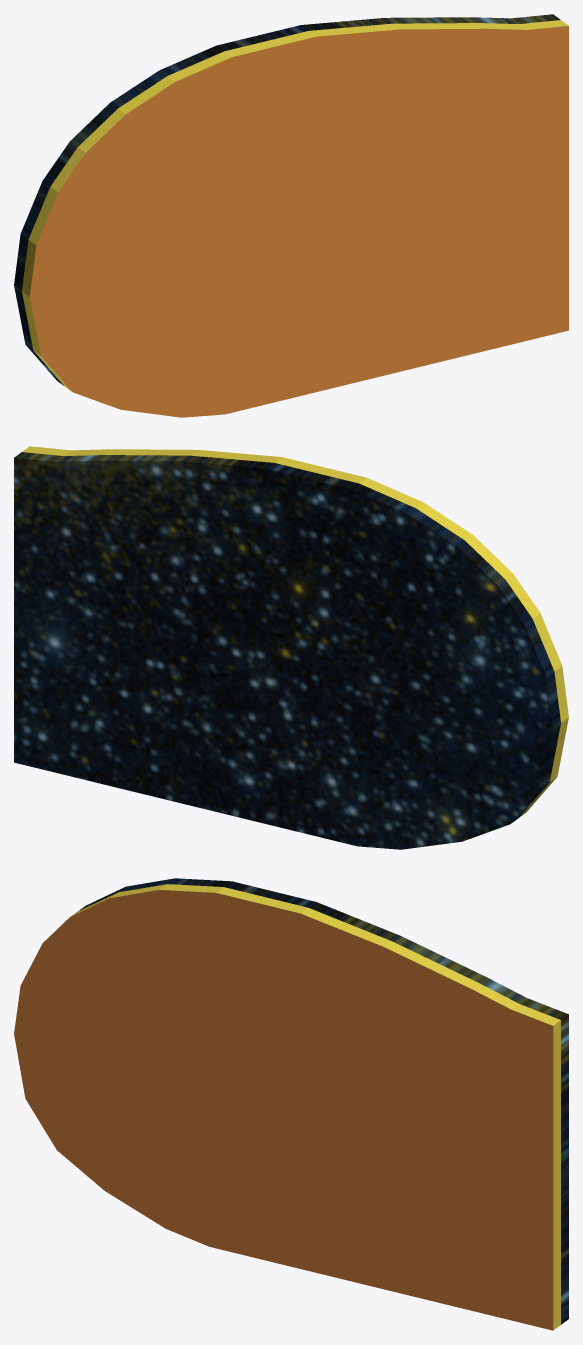
Rendered from Expl-Manufacturing Wall.fbx.
The picture shows the model from 3 angles, top to bottom: view 1: azimuth 30°, elevation 25°; view 2: azimuth 150°, elevation 25°; view 3: azimuth 330°, elevation 25°; orthographic projection.
Parts seen in each view (by area): view 1: Interior Walls.002; view 2: Interior Walls.002; view 3: Interior Walls.002.
Part boxes in pixels (x1,y1,x2,y2): Interior Walls.002: (14,14,568,417); Interior Walls.002: (14,446,568,849); Interior Walls.002: (14,878,568,1330).
Size of the model in its own units: 984 by 620 by 50.
